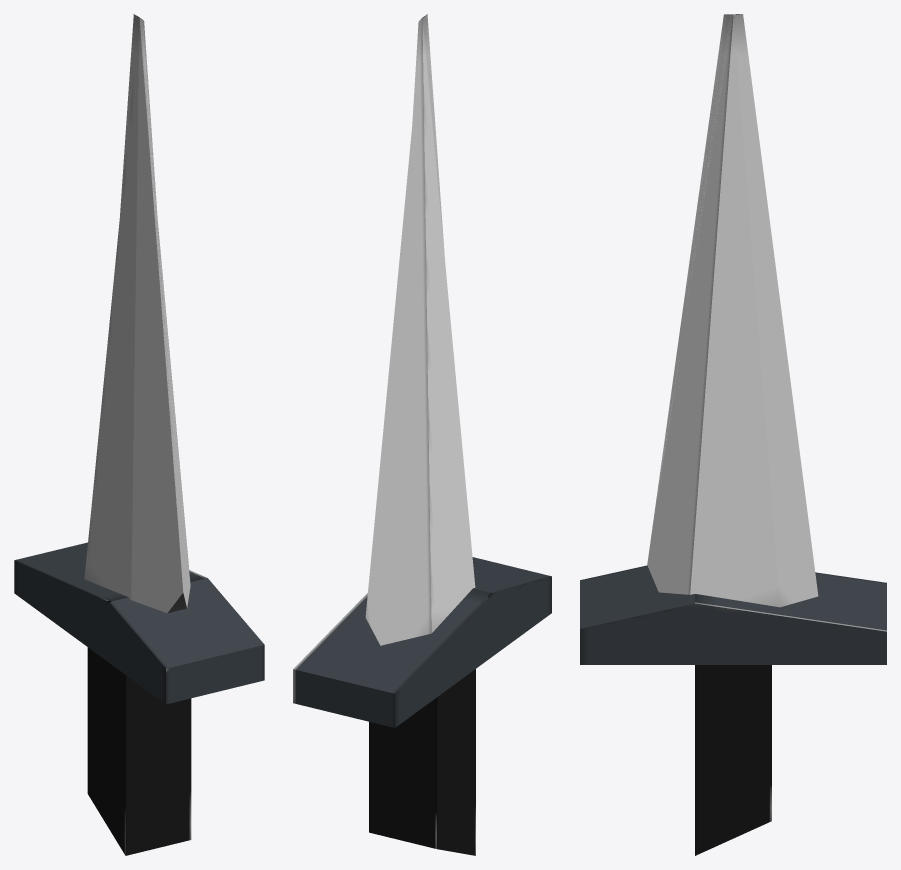
Rendered from sword.fbx.
The picture shows the model from 3 angles, left to right: view 1: azimuth 30°, elevation 25°; view 2: azimuth 150°, elevation 25°; view 3: azimuth 270°, elevation 25°; orthographic projection. The views are drawn at different scales.
Visible parts, largest first — view 1: mesh; view 2: mesh; view 3: mesh.
Part boxes in pixels (x1,y1,x2,y2): mesh: (14, 14, 264, 855); mesh: (293, 14, 551, 855); mesh: (580, 14, 886, 855).
Bounding box in the file's own units: 30 × 238 × 80.
Materials: 1 (1 with a texture image).
